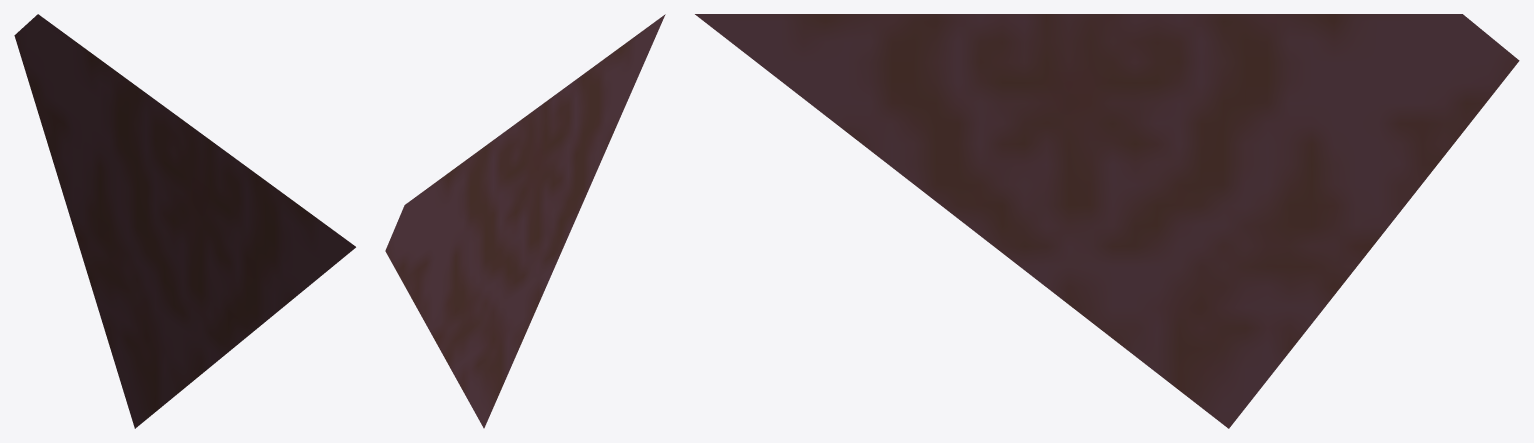
File: Past_BrokenWall5.fbx
3 renders of one model, left to right at view 1: azimuth 30°, elevation 25°; view 2: azimuth 150°, elevation 25°; view 3: azimuth 270°, elevation 25°, orthographic. The views are drawn at different scales.
Parts seen in each view (by area): view 1: polySurface414; view 2: polySurface414; view 3: polySurface414.
Part boxes in pixels (x1=…): polySurface414: x1=14, y1=14, x2=355, y2=428; polySurface414: x1=385, y1=14, x2=665, y2=428; polySurface414: x1=695, y1=14, x2=1519, y2=428.
Size of the model in its own units: 0.000122 by 49.7 by 89.56.
Materials: 1 (1 with a texture image).
